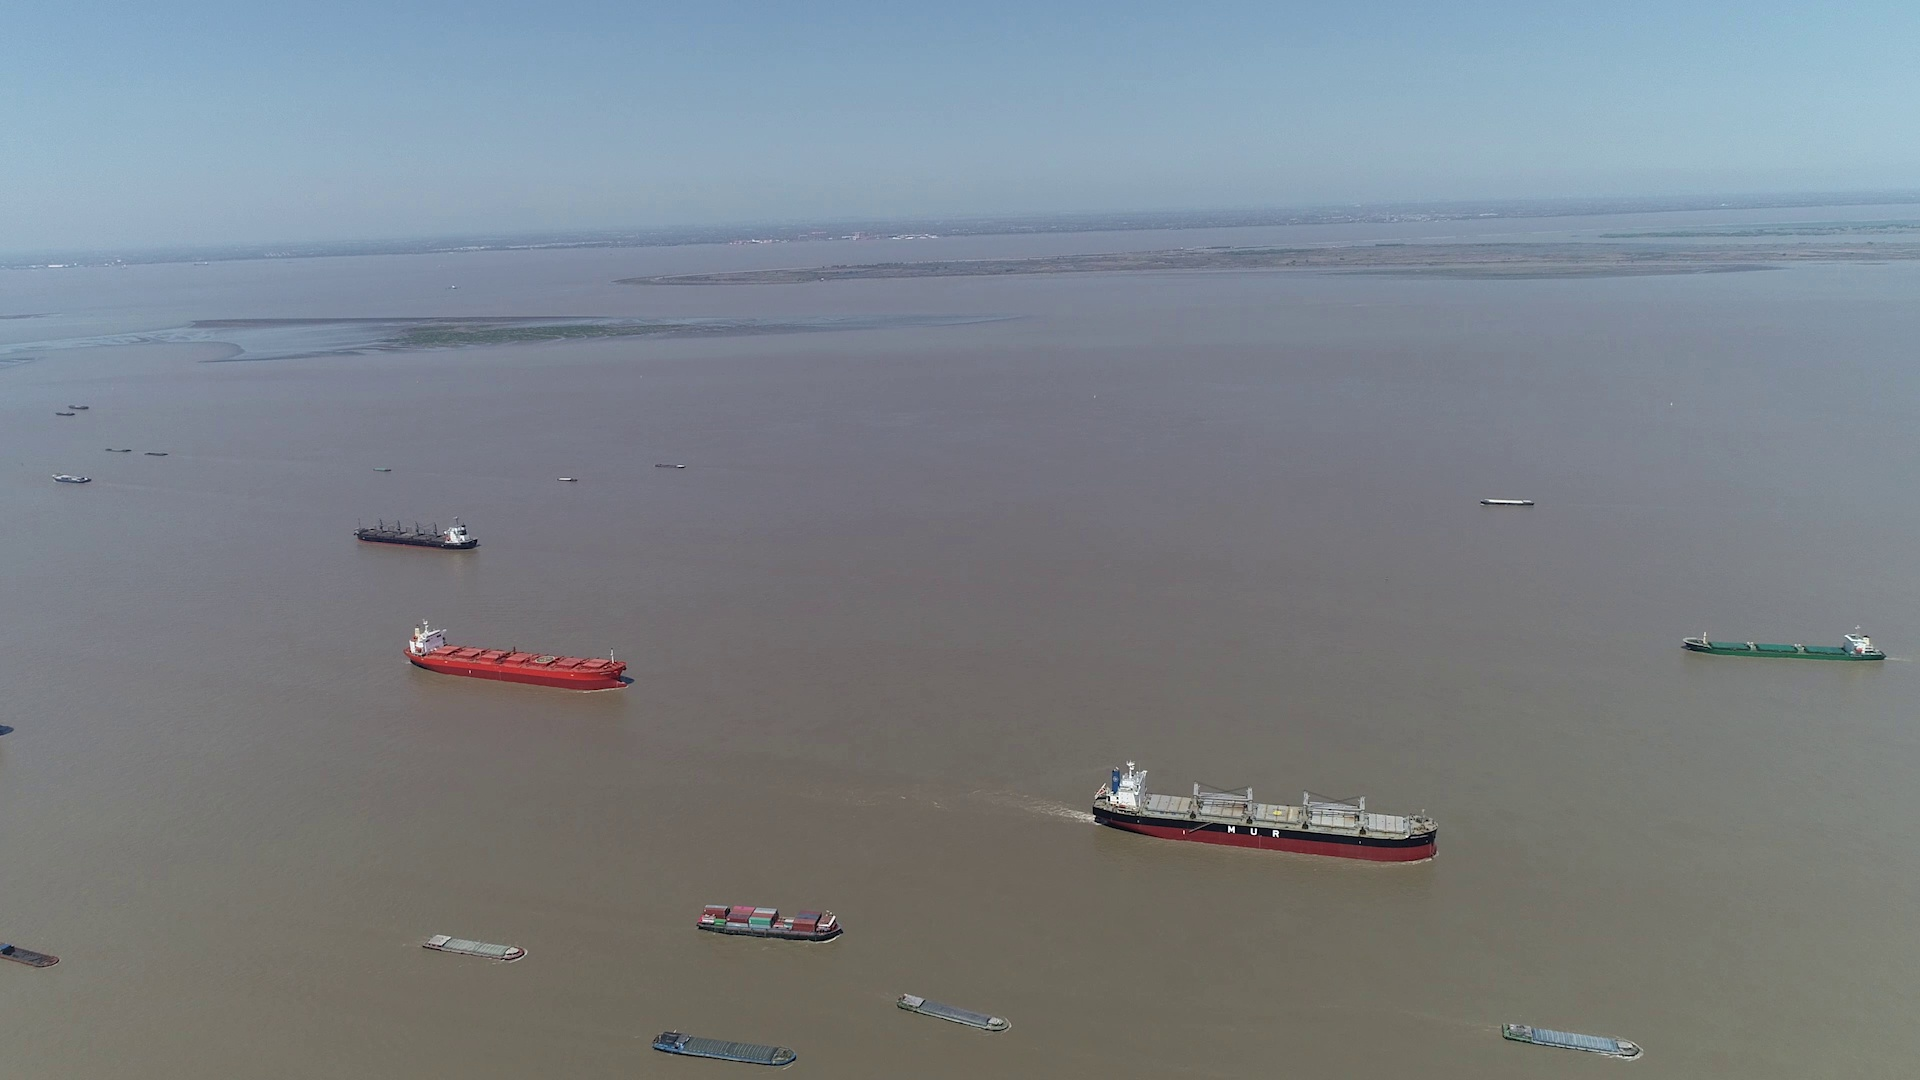ship: (1093, 764, 1437, 861), (405, 621, 626, 691), (1684, 629, 1884, 661), (1501, 1022, 1643, 1062), (695, 905, 840, 943), (654, 1033, 796, 1069), (897, 993, 1013, 1036), (353, 516, 480, 549), (423, 934, 529, 963), (0, 935, 59, 969), (54, 472, 94, 483), (1478, 498, 1530, 506)
